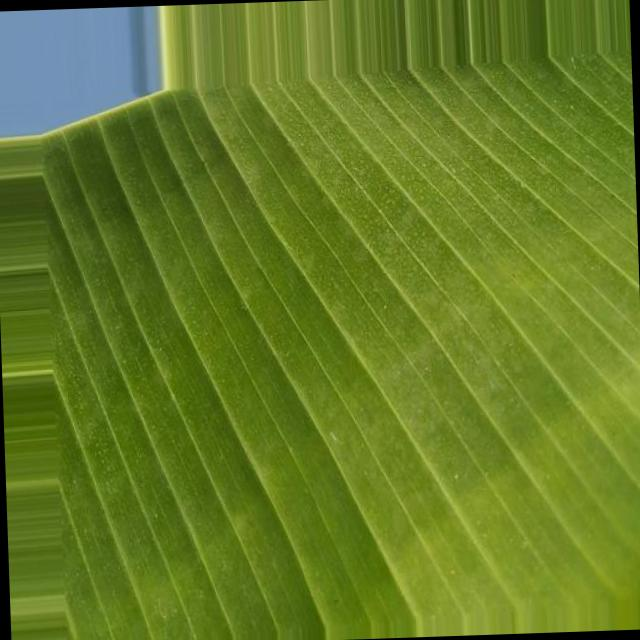Banana_Healthy: (206, 203, 564, 564)
